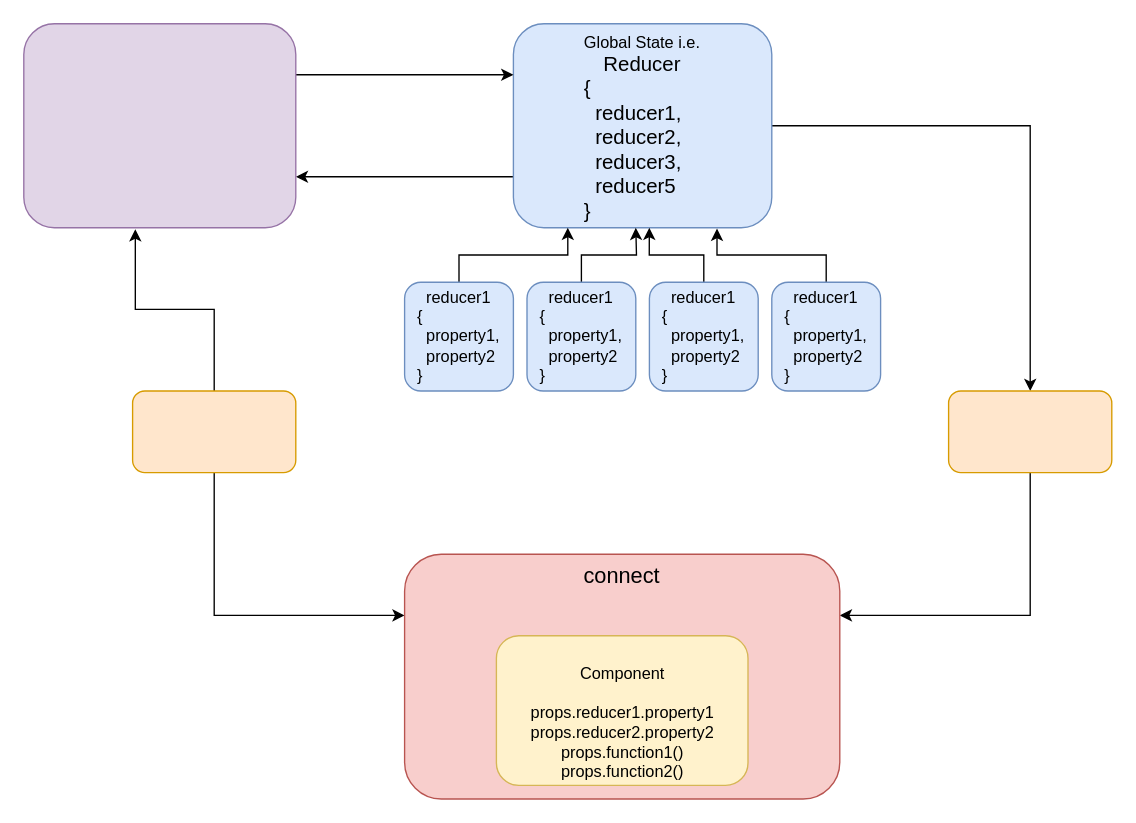
This 1136x823 diagram has some shape labels left out. The shapes that lost their labels are listed below. From the top down, each one's centre as x and y in pixels, then its label:
At [159,125]: "state modifiers i.e. Action Creators function1 function2 function3".
At [213,431]: "Action Creator".
At [1029,431]: "Map State To Props".
